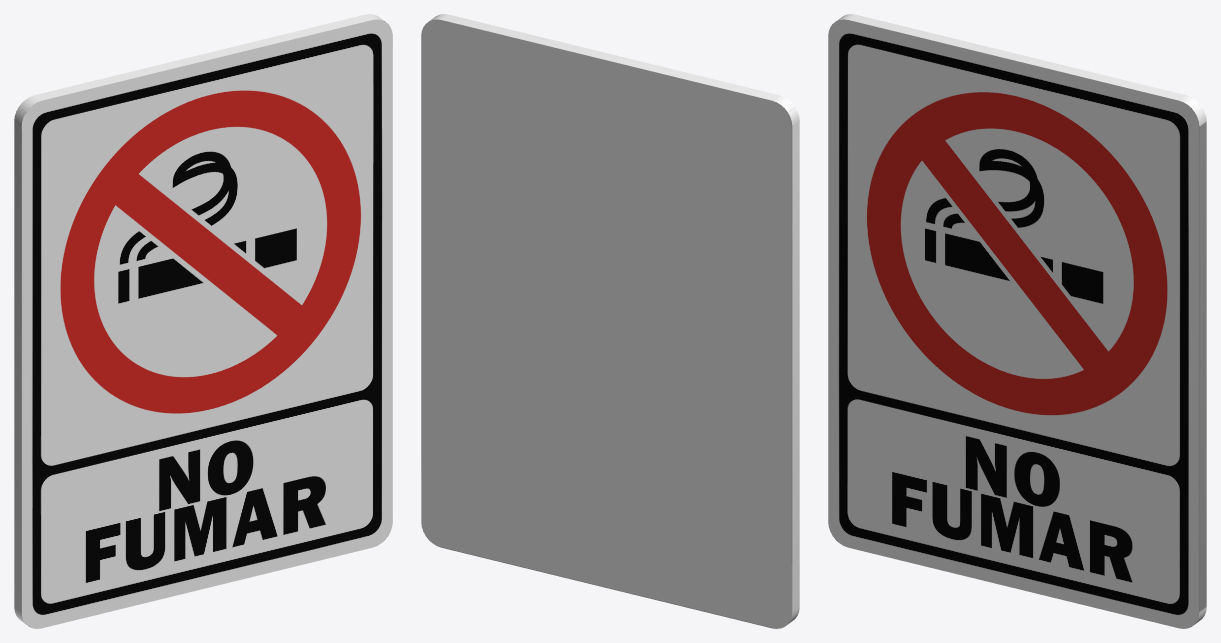
The model's file is señales9.fbx.
The picture shows the model from 3 angles, left to right: view 1: azimuth 30°, elevation 25°; view 2: azimuth 150°, elevation 25°; view 3: azimuth 330°, elevation 25°; orthographic projection.
Parts seen in each view (by area): view 1: no fumar_0; view 2: no fumar_0; view 3: no fumar_0.
Part boxes in pixels (box(x1,y1,x2,y2)): no fumar_0: box(14, 14, 392, 628); no fumar_0: box(421, 14, 799, 628); no fumar_0: box(828, 14, 1206, 628).
Size of the model in its own units: 14.72 by 20 by 0.5095.
